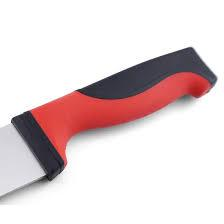Knife: (0, 45, 217, 205)
